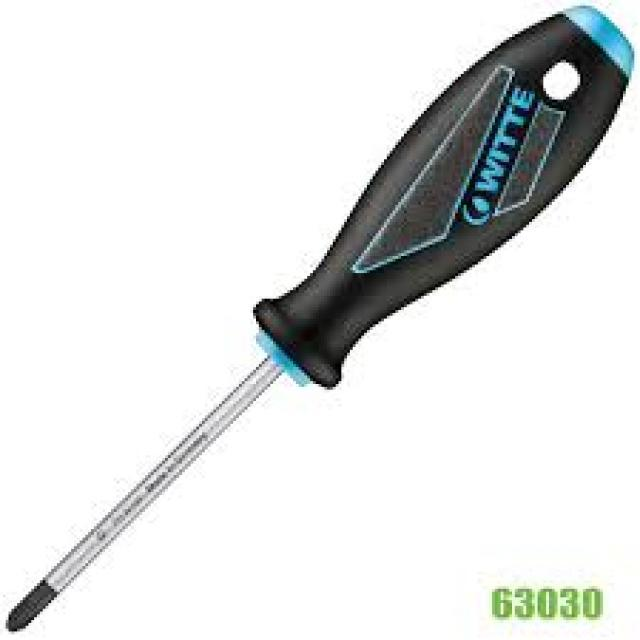screwdriver: (2, 3, 638, 640)
